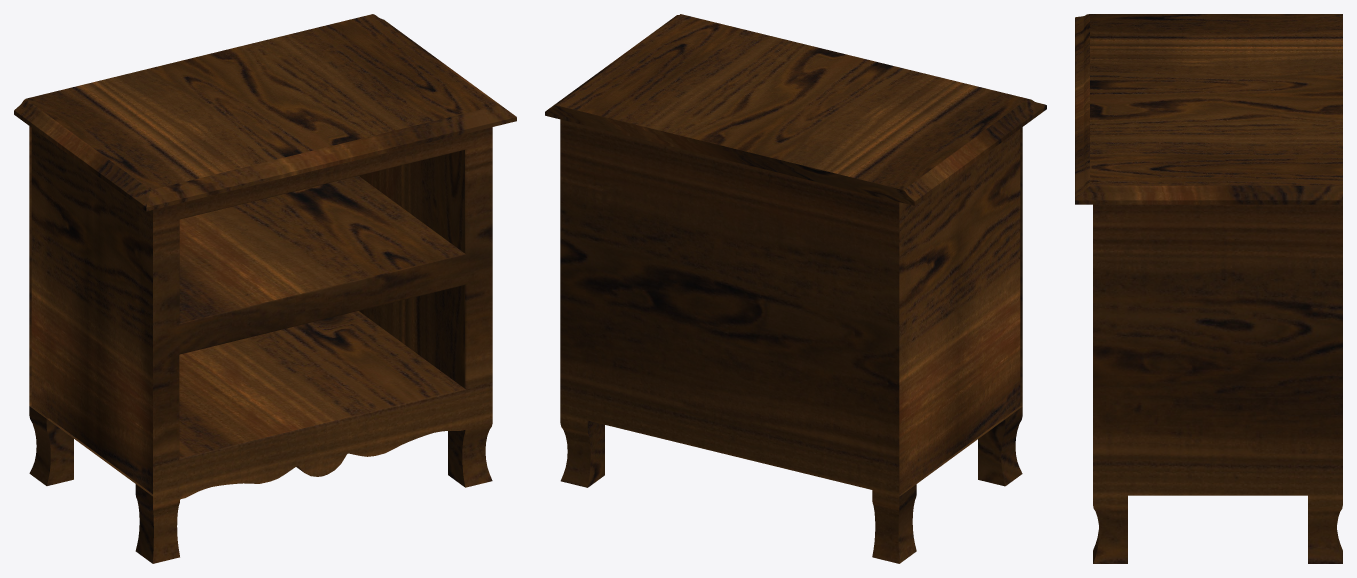
Rendered from cabinet.fbx.
The picture shows the model from 3 angles, left to right: view 1: azimuth 30°, elevation 25°; view 2: azimuth 150°, elevation 25°; view 3: azimuth 270°, elevation 25°; orthographic projection.
Parts seen in each view (by area): view 1: base_low_Cube, top_low_Cube.001; view 2: base_low_Cube, top_low_Cube.001; view 3: base_low_Cube, top_low_Cube.001.
Boxes of the visible parts, x1=… form: base_low_Cube: x1=29, y1=126, x2=492, y2=563; top_low_Cube.001: x1=14, y1=14, x2=516, y2=211; base_low_Cube: x1=560, y1=119, x2=1022, y2=563; top_low_Cube.001: x1=545, y1=14, x2=1046, y2=205; base_low_Cube: x1=1093, y1=204, x2=1342, y2=563; top_low_Cube.001: x1=1075, y1=14, x2=1342, y2=204.
Size of the model in its own units: 0.7149 by 0.6929 by 0.4422.
